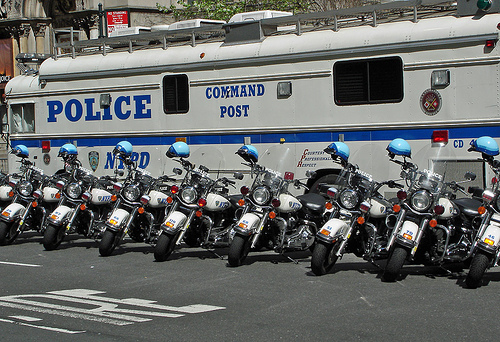helmet: (322, 140, 350, 162), (468, 137, 496, 157), (384, 137, 415, 155), (236, 145, 260, 163), (169, 140, 190, 159), (112, 140, 133, 154), (10, 146, 30, 158), (57, 144, 77, 154)
